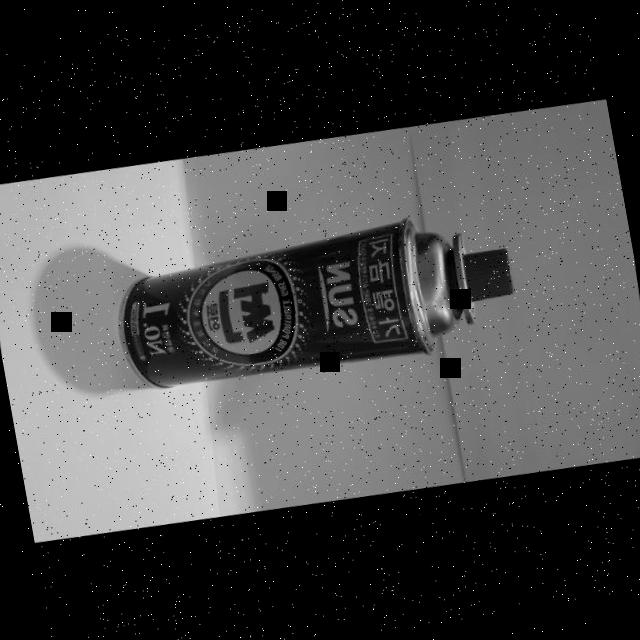chemical_spray_can: (99, 188, 536, 424)
